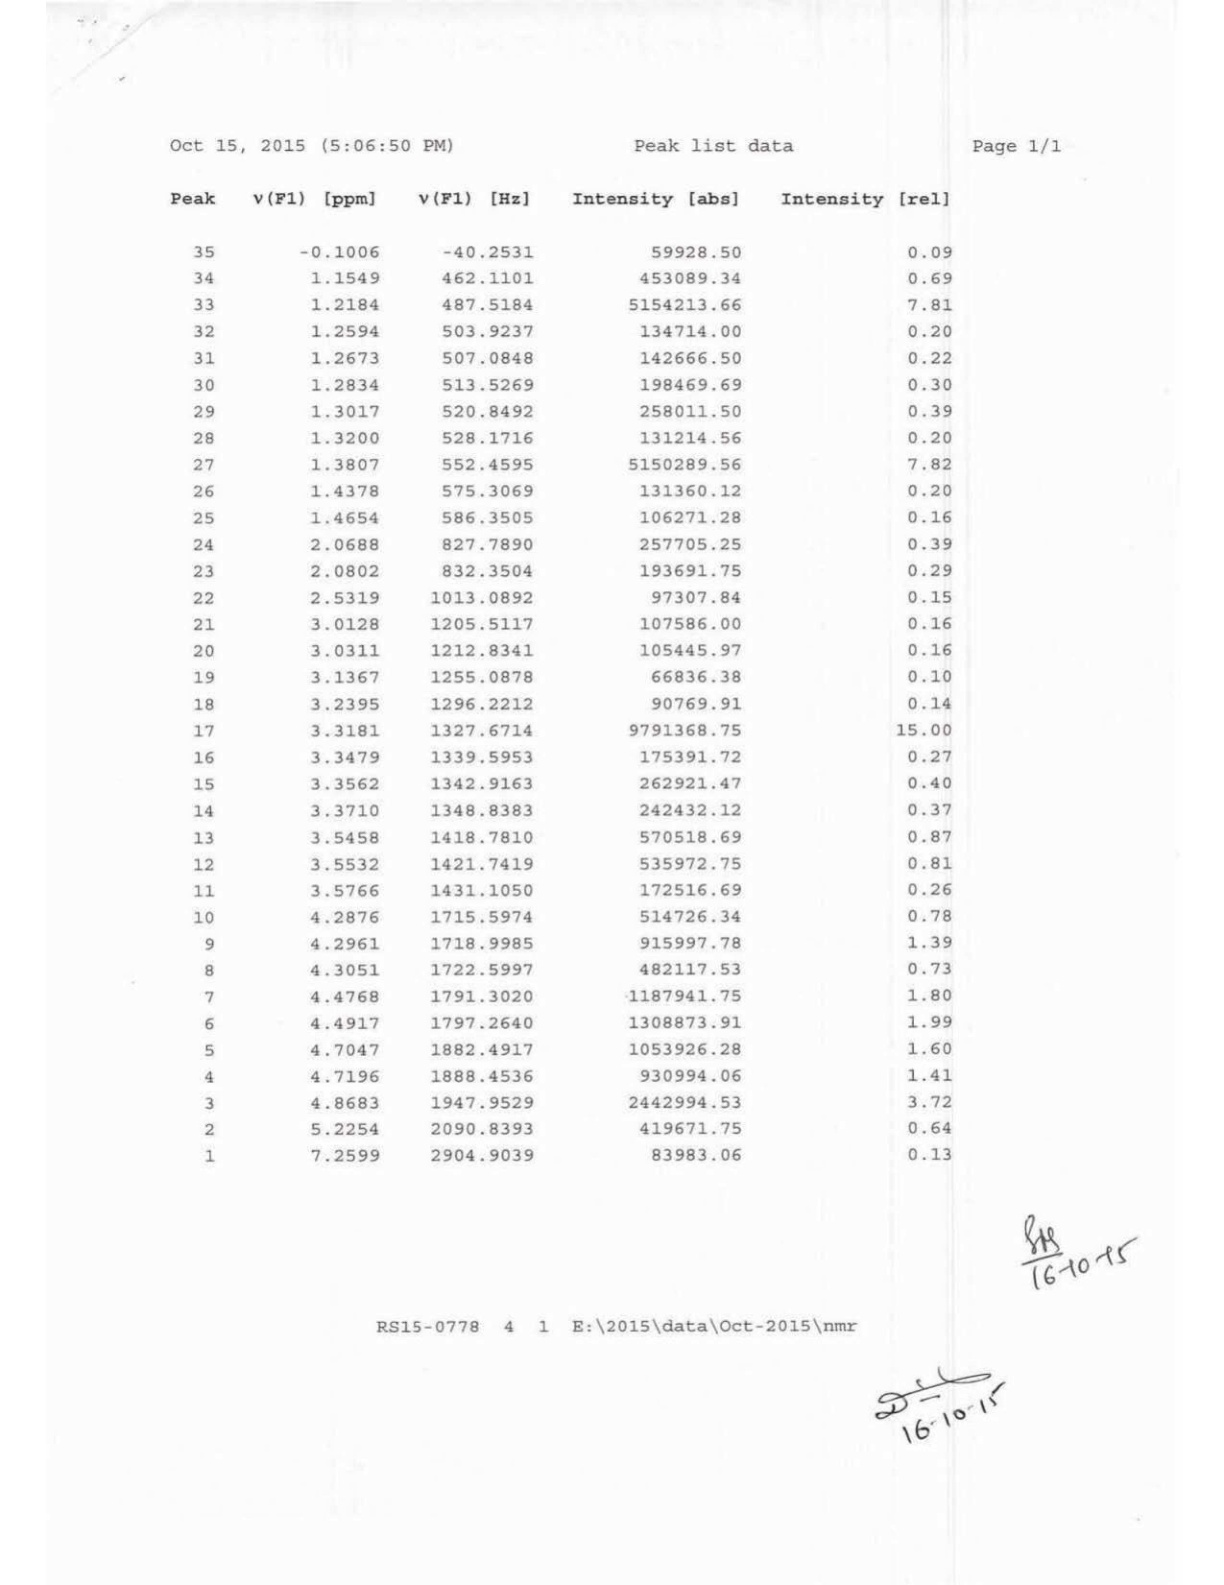nolines: (166, 186, 962, 1170)
